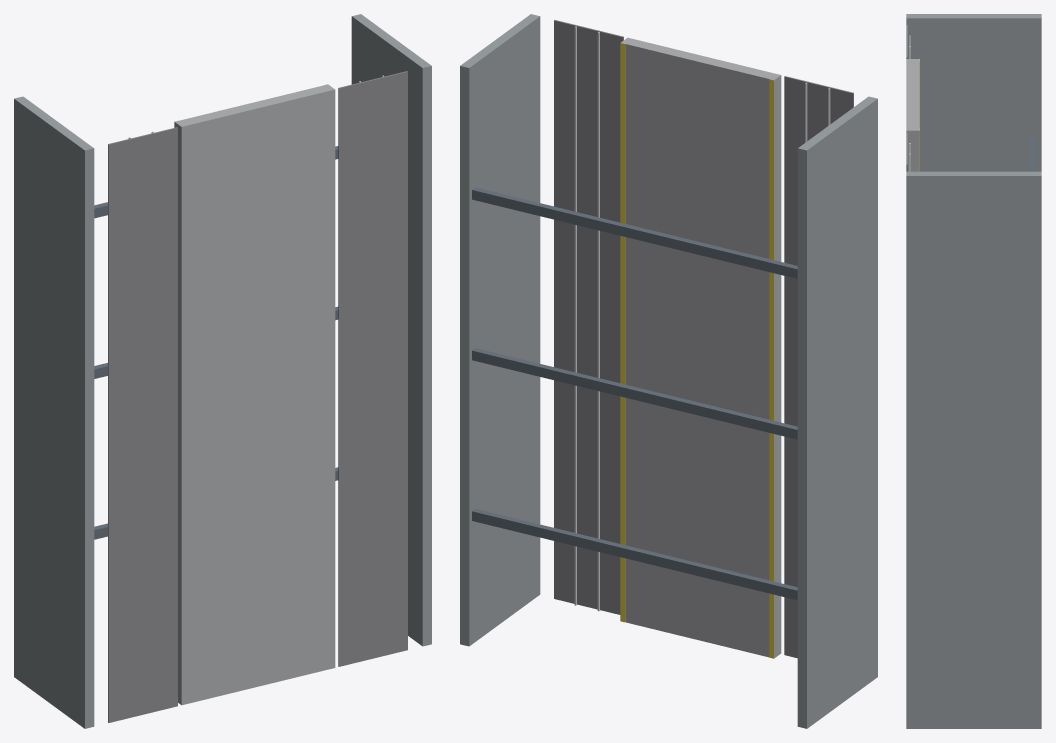
Rendered from railway_station.glb.
3 views of the same model, side by side, from view 1: azimuth 30°, elevation 25°; view 2: azimuth 150°, elevation 25°; view 3: azimuth 270°, elevation 25° (orthographic). The views are drawn at different scales.
Parts seen in each view (by area): view 1: Railway_Station_Environment; view 2: Railway_Station_Environment; view 3: Railway_Station_Environment.
Boxes of the visible parts, x1,y1,x2,y2 form: Railway_Station_Environment: (14,14,431,728); Railway_Station_Environment: (460,14,877,728); Railway_Station_Environment: (906,14,1041,728).
Size of the model in its own units: 22.6 by 36 by 8.
